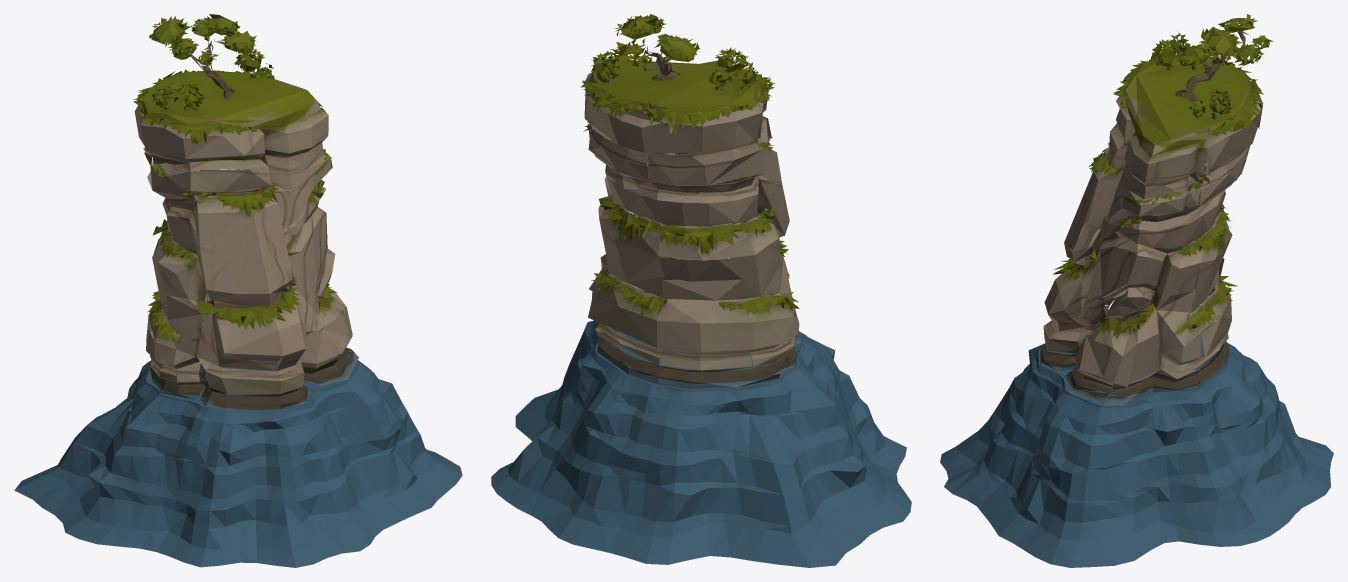
Rendered from spire_a.glb.
3 renders of one model, left to right at view 1: azimuth 30°, elevation 25°; view 2: azimuth 150°, elevation 25°; view 3: azimuth 270°, elevation 25°, orthographic. The views are drawn at different scales.
Parts seen in each view (by area): view 1: lod0; view 2: lod0; view 3: lod0.
Part boxes in pixels (x1,y1,x2,y2): lod0: [14, 14, 462, 567]; lod0: [491, 14, 911, 567]; lod0: [940, 14, 1333, 567].
Size of what is drawn, in the model's own units: 4.04 by 4.65 by 3.68.
1 material, 1 textured.
